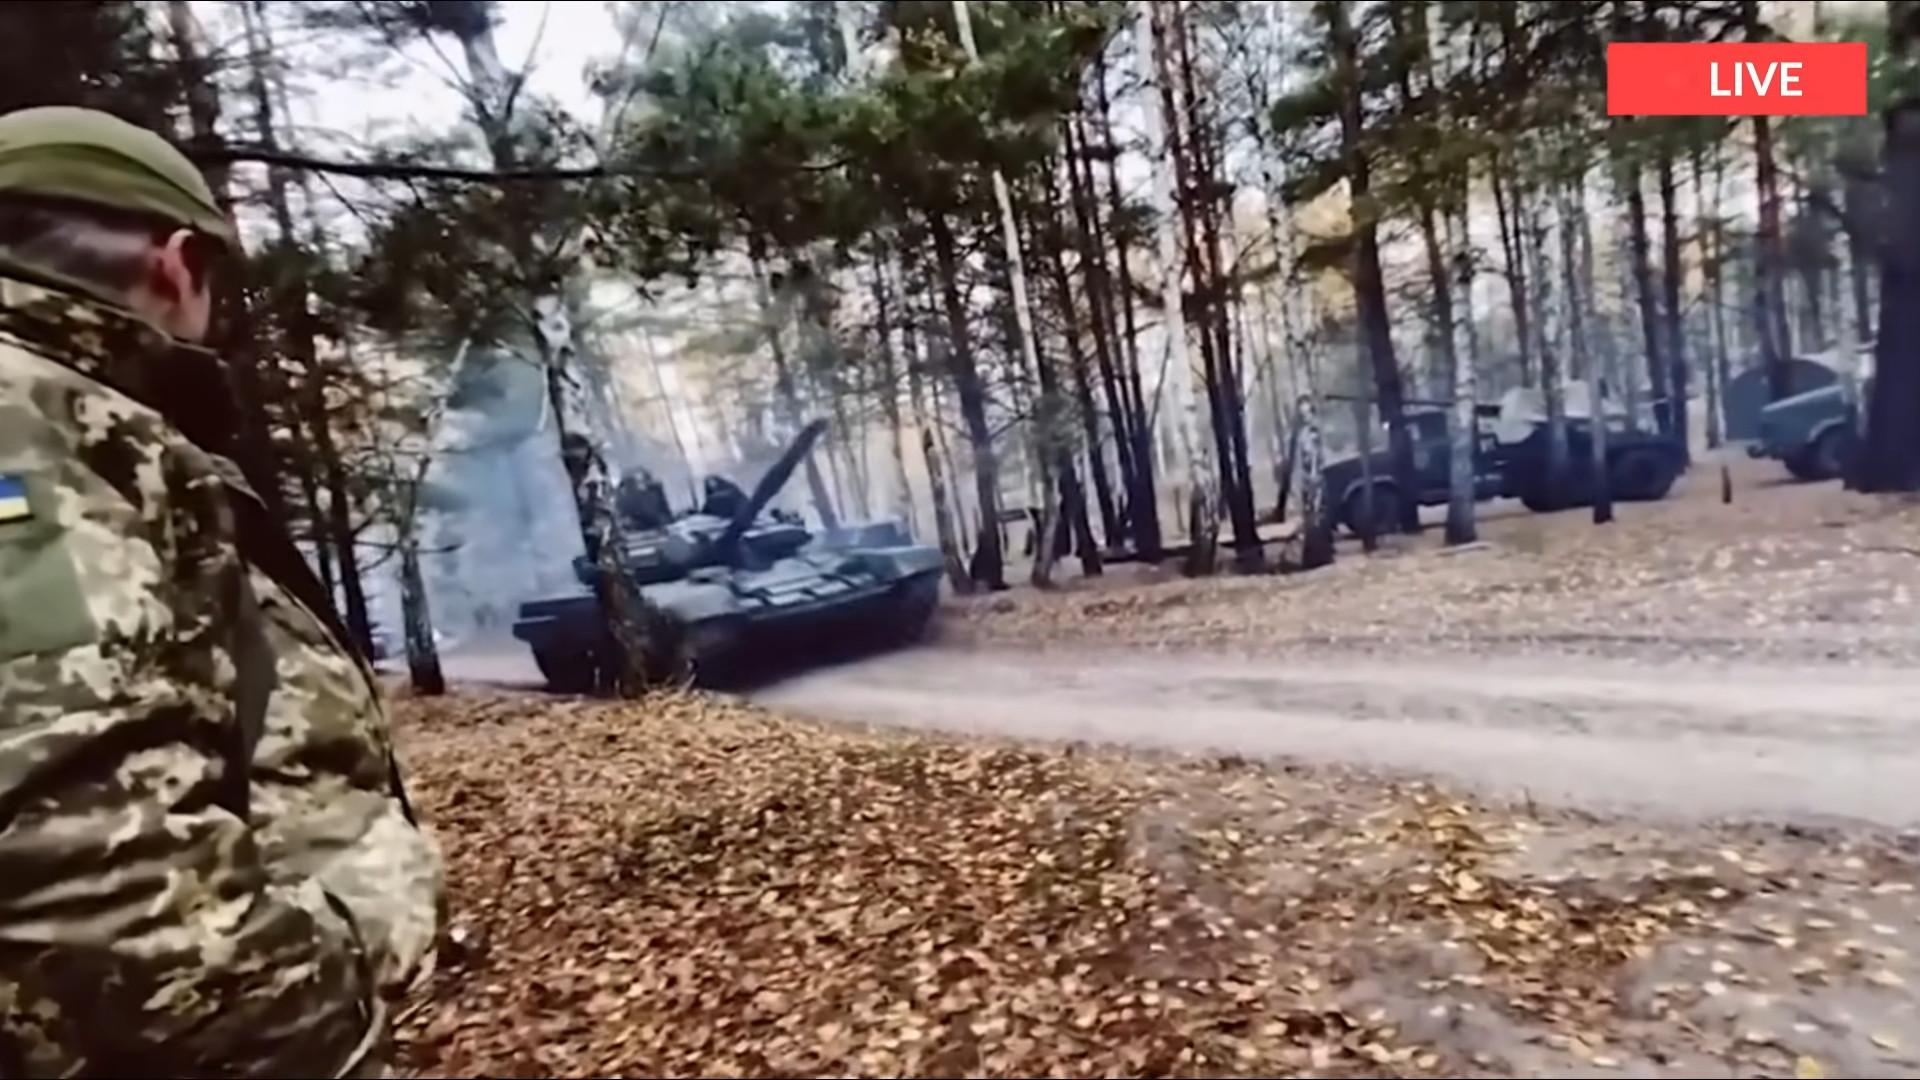tank: (514, 415, 945, 693)
